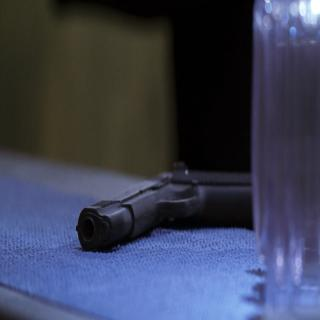gun: (75, 153, 285, 252)
